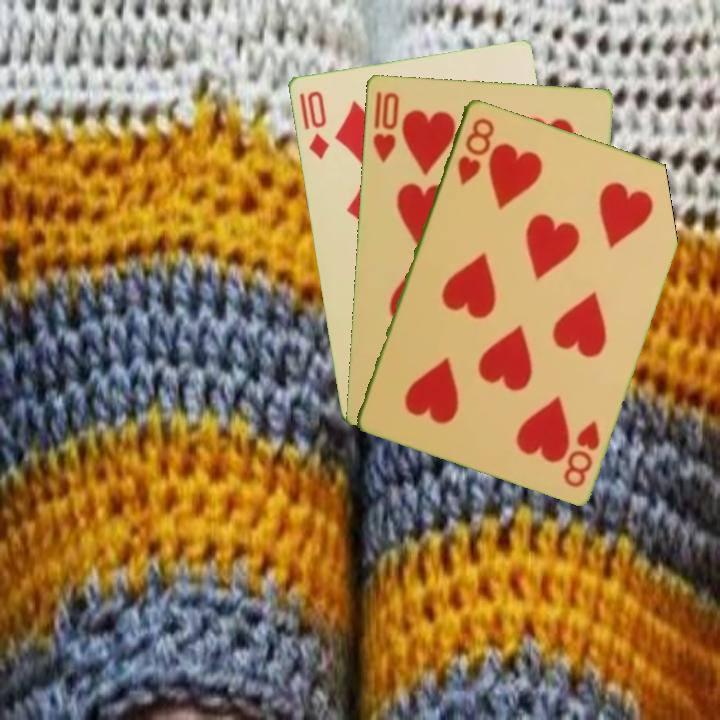10d: (303, 87, 331, 162)
10h: (369, 87, 401, 165)
8h: (453, 113, 497, 188), (559, 417, 603, 490)
